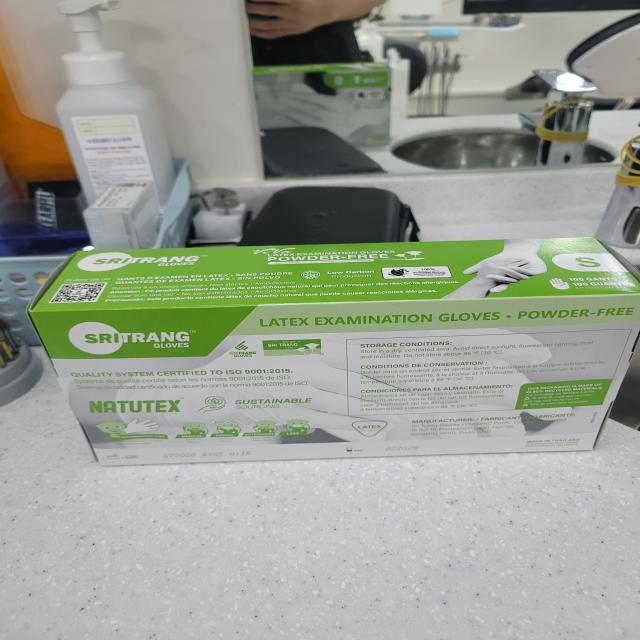glove: (24, 225, 640, 469)
